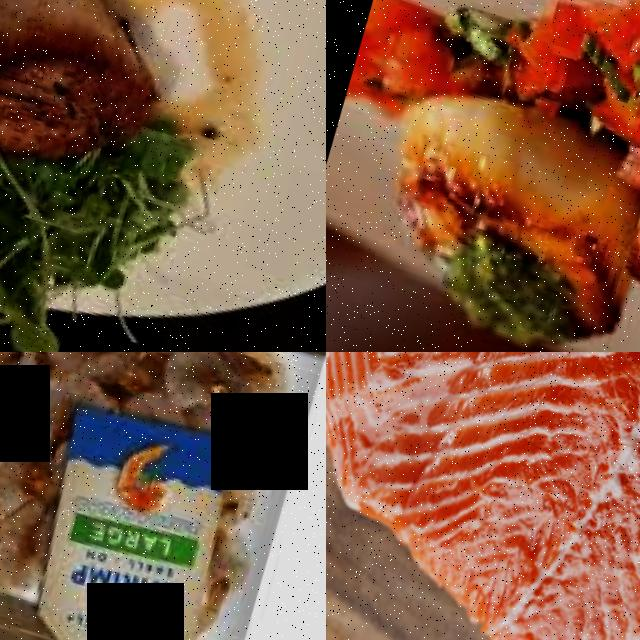salmon: (326, 352, 640, 640)
sea scallops: (364, 71, 640, 295), (0, 0, 180, 194)
shrimp: (31, 352, 129, 388), (0, 352, 43, 410), (0, 410, 24, 494)
